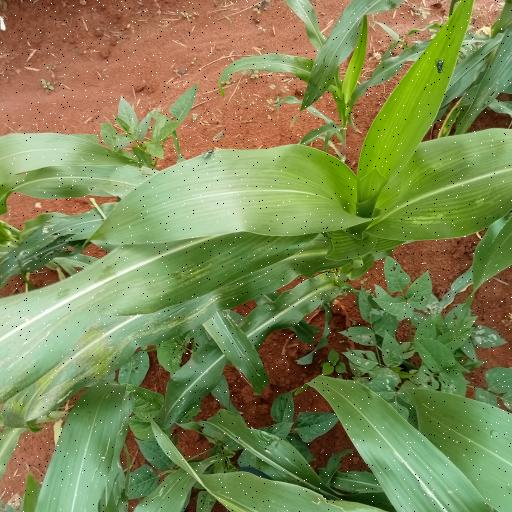Corn_Brown_Spots: (0, 158, 357, 423)
